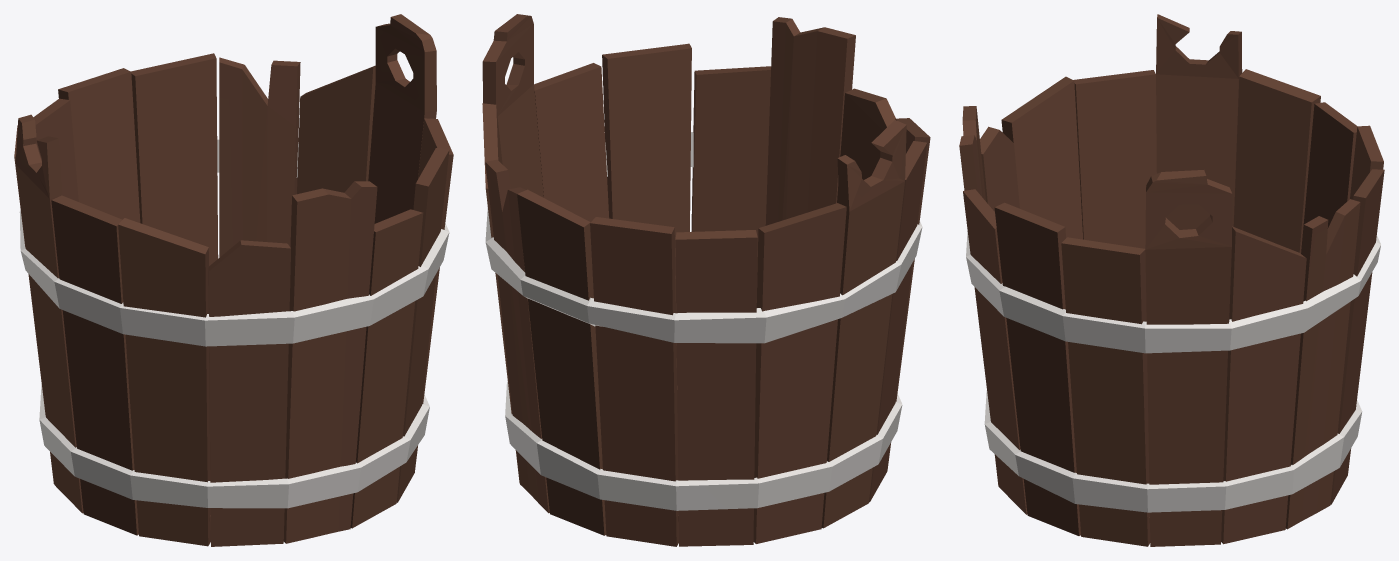
The model's file is Bucket_2.fbx.
The picture shows the model from 3 angles, left to right: view 1: azimuth 30°, elevation 25°; view 2: azimuth 150°, elevation 25°; view 3: azimuth 270°, elevation 25°; orthographic projection. The views are drawn at different scales.
Parts seen in each view (by area): view 1: Bucket_2; view 2: Bucket_2; view 3: Bucket_2.
Boxes of the visible parts, x1=… form: Bucket_2: x1=14, y1=14, x2=453, y2=546; Bucket_2: x1=482, y1=14, x2=930, y2=546; Bucket_2: x1=959, y1=14, x2=1384, y2=546.
Size of the model in its own units: 0.4612 by 0.4576 by 0.4575.
